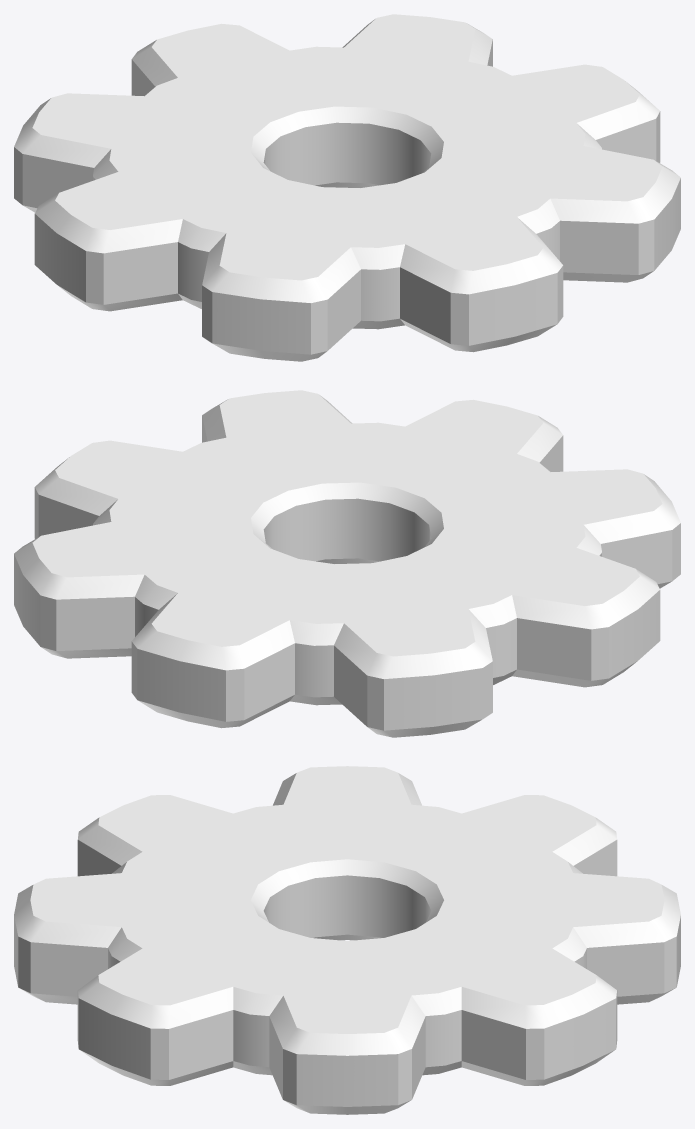
Rendered from Cog.fbx.
The picture shows the model from 3 angles, top to bottom: view 1: azimuth 30°, elevation 25°; view 2: azimuth 150°, elevation 25°; view 3: azimuth 270°, elevation 25°; orthographic projection.
Parts seen in each view (by area): view 1: Cylinder.001; view 2: Cylinder.001; view 3: Cylinder.001.
Part boxes in pixels (bbox=[...]): Cylinder.001: bbox=[14, 14, 680, 361]; Cylinder.001: bbox=[14, 390, 680, 737]; Cylinder.001: bbox=[14, 766, 680, 1114].
Size of the model in its own units: 432 by 57.74 by 432.
